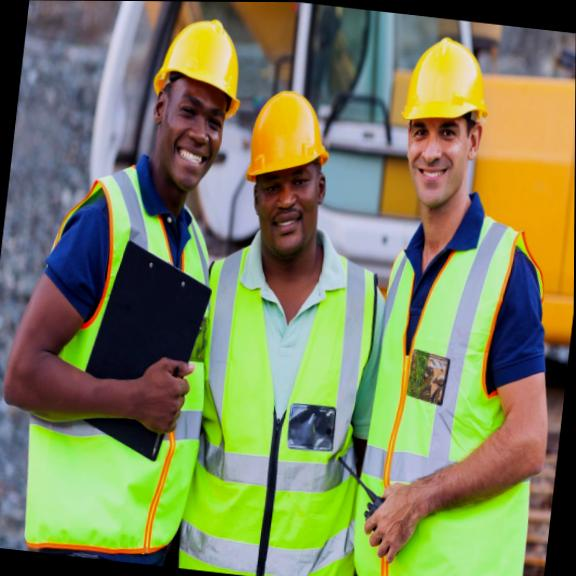safety_vest: (350, 211, 570, 576), (21, 163, 224, 553), (174, 230, 393, 576)
